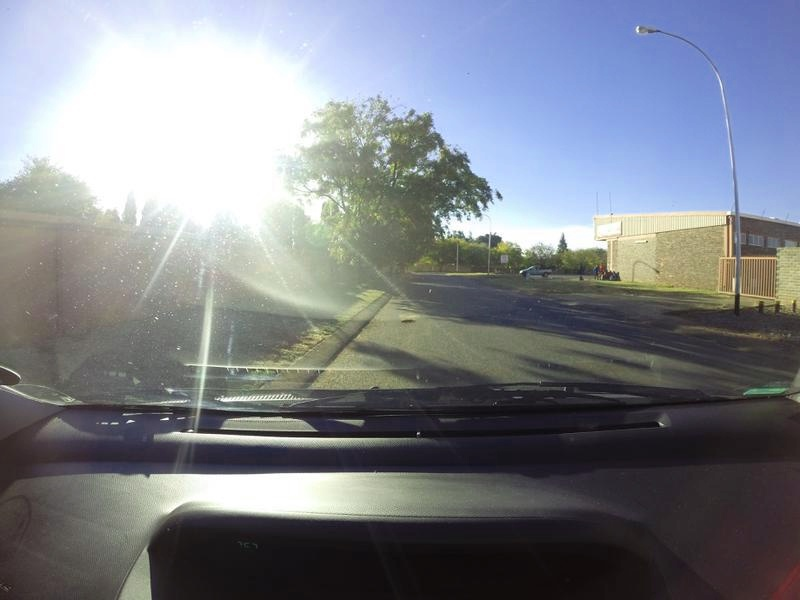pothole: (393, 313, 437, 326)
